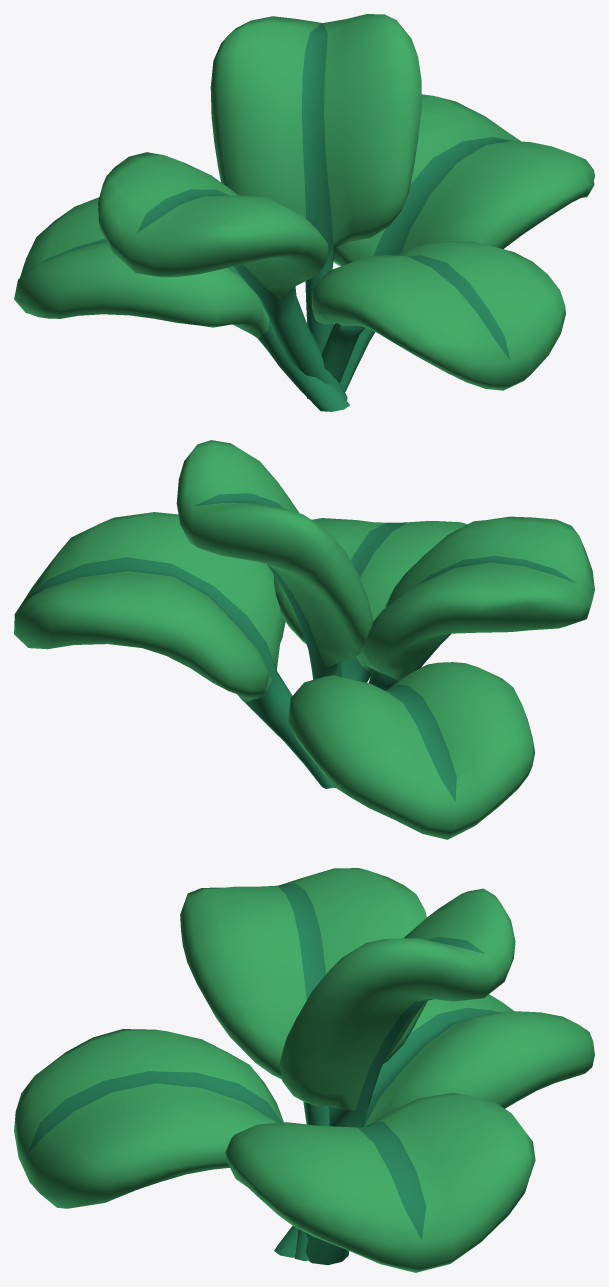
File: Herb_A_03.fbx
The picture shows the model from 3 angles, top to bottom: view 1: azimuth 30°, elevation 25°; view 2: azimuth 150°, elevation 25°; view 3: azimuth 270°, elevation 25°; orthographic projection. The views are drawn at different scales.
Visible parts, largest first — view 1: Herb_A_03_LOD0; view 2: Herb_A_03_LOD0; view 3: Herb_A_03_LOD0.
Part boxes in pixels (box(x1,y1,x2,y2)): Herb_A_03_LOD0: box(14, 14, 594, 411); Herb_A_03_LOD0: box(14, 440, 594, 839); Herb_A_03_LOD0: box(14, 868, 594, 1272).
Size of what is drawn, in the model's own units: 695 by 431 by 616.
